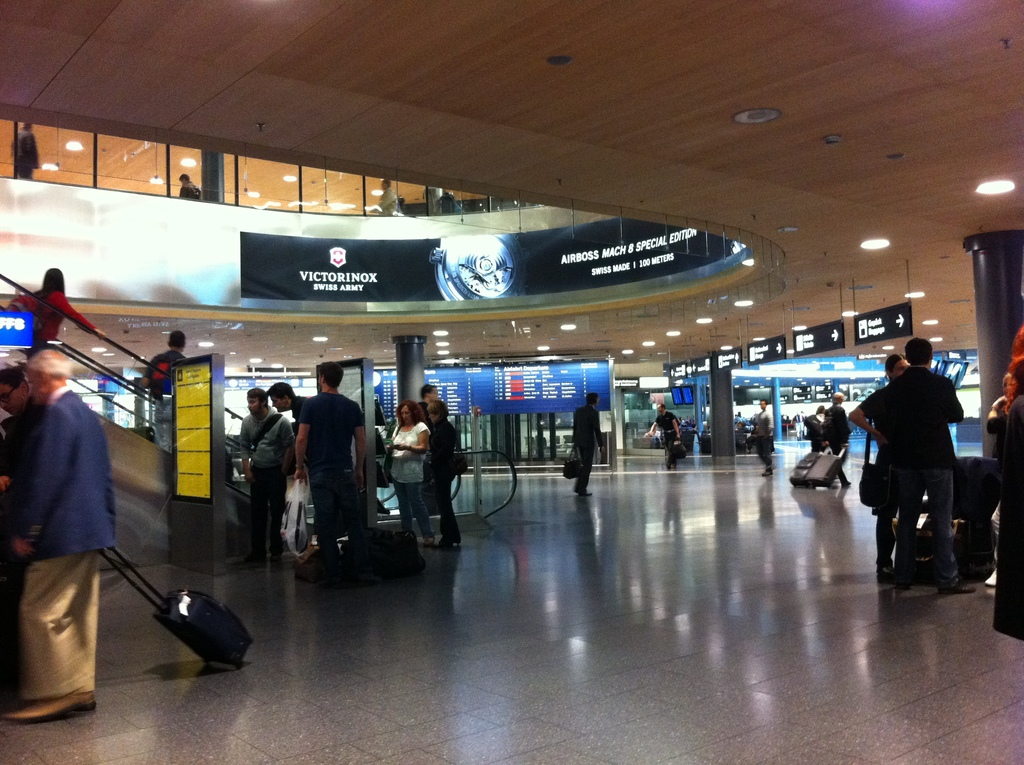Person: (0, 348, 116, 722), (238, 379, 368, 571), (889, 335, 978, 592), (0, 364, 45, 711), (847, 353, 910, 584), (382, 382, 463, 547), (0, 266, 108, 362), (141, 329, 184, 453), (568, 391, 606, 497), (985, 372, 1019, 463), (820, 392, 853, 484), (643, 404, 682, 471), (753, 397, 775, 475), (801, 404, 829, 457)
